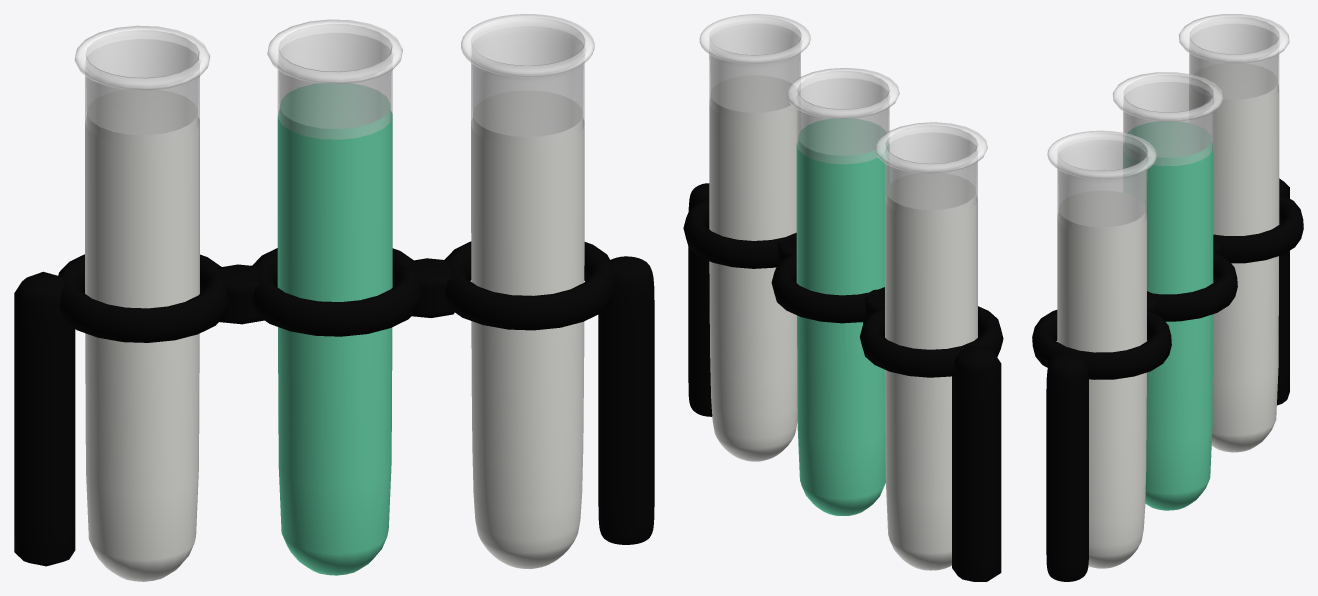
The model's file is test_tube_holders.fbx.
3 renders of one model, left to right at view 1: azimuth 30°, elevation 25°; view 2: azimuth 150°, elevation 25°; view 3: azimuth 270°, elevation 25°, orthographic. The views are drawn at different scales.
Parts seen in each view (by area): view 1: Test_tube1, Test_tube2, Test_tube, pCube8, pCube7, pPipe1, pPipe3, pPipe2, pCube10, pCube9; view 2: Test_tube1, Test_tube, Test_tube2, pCube8, pPipe3, pCube7, pPipe1, pPipe2; view 3: Test_tube, Test_tube1, Test_tube2, pCube7, pPipe1, pPipe3, pPipe2, pCube8.
Boxes of the visible parts, x1=… form: Test_tube1: x1=267, y1=19, x2=402, y2=575; Test_tube2: x1=74, y1=25, x2=210, y2=581; Test_tube: x1=461, y1=14, x2=594, y2=569; pCube8: x1=14, y1=271, x2=75, y2=566; pCube7: x1=598, y1=256, x2=654, y2=544; pPipe1: x1=444, y1=241, x2=614, y2=330; pPipe3: x1=58, y1=254, x2=229, y2=342; pPipe2: x1=252, y1=248, x2=421, y2=336; pCube10: x1=398, y1=258, x2=459, y2=317; pCube9: x1=209, y1=264, x2=270, y2=324; Test_tube1: x1=786, y1=68, x2=899, y2=515; Test_tube: x1=699, y1=14, x2=810, y2=461; Test_tube2: x1=875, y1=122, x2=987, y2=570; pCube8: x1=952, y1=345, x2=1001, y2=581; pPipe3: x1=860, y1=306, x2=1003, y2=377; pCube7: x1=688, y1=183, x2=712, y2=416; pPipe1: x1=683, y1=197, x2=796, y2=268; pPipe2: x1=771, y1=252, x2=884, y2=323; Test_tube: x1=1047, y1=130, x2=1156, y2=568; Test_tube1: x1=1113, y1=72, x2=1223, y2=510; Test_tube2: x1=1178, y1=14, x2=1289, y2=452; pCube7: x1=1046, y1=353, x2=1088, y2=581; pPipe1: x1=1032, y1=309, x2=1171, y2=379; pPipe3: x1=1213, y1=193, x2=1303, y2=263; pPipe2: x1=1147, y1=251, x2=1237, y2=321; pCube8: x1=1277, y1=178, x2=1289, y2=405.
Bounding box in the file's own units: 1.6 × 1.59 × 0.9437.
